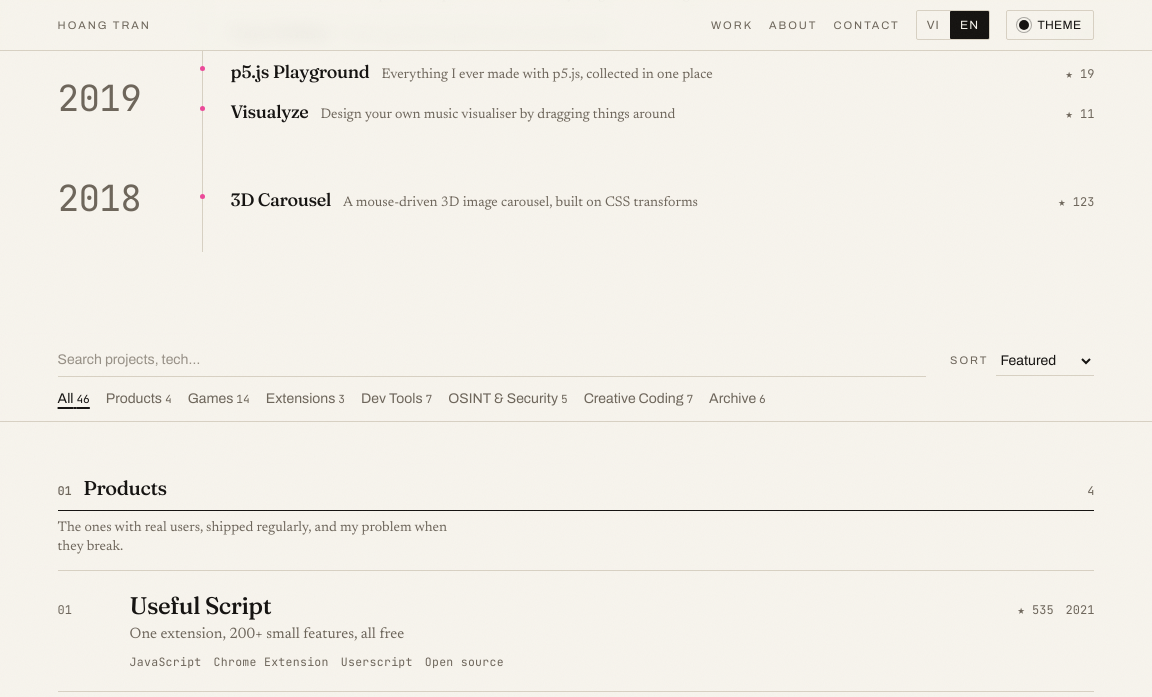
Test: Editorial › không tìm thấy gì thì nói rõ chứ không để màn trắng
(page scrolled)
Type "zzzzkhongcogi" into the search field.
click(492, 360); type("zzzzkhongcogi")  # box [58,344,926,376]
(page scrolled)
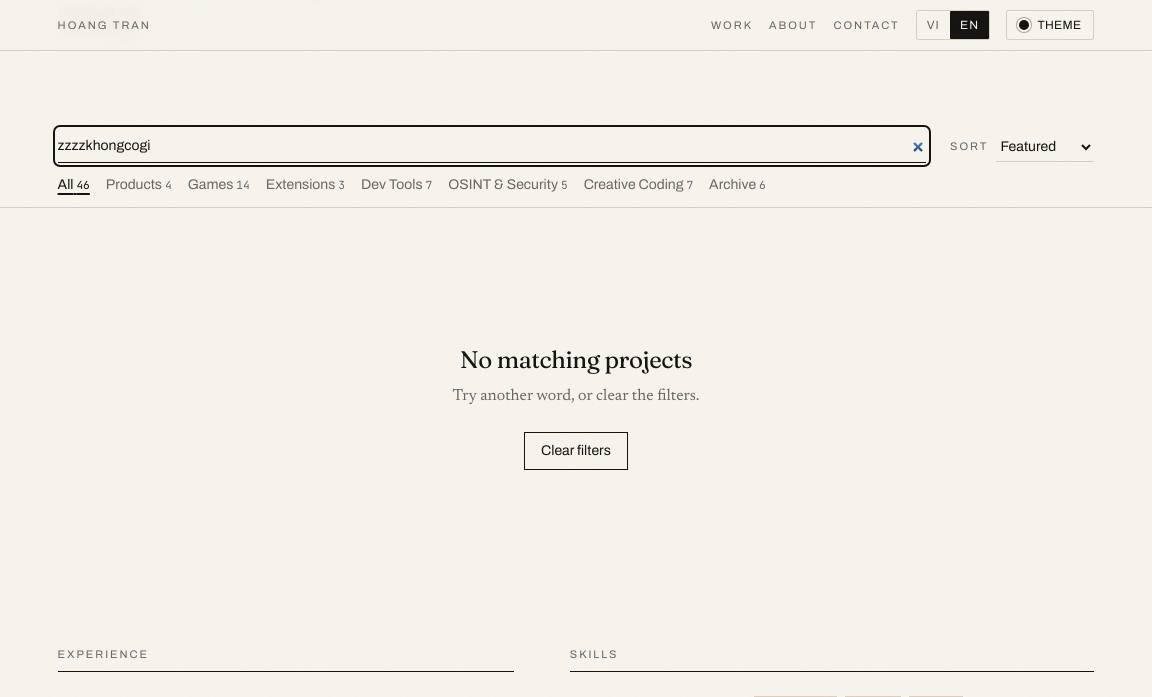
Check: the text "No matching projects" is shown, box [460,345,692,374]
